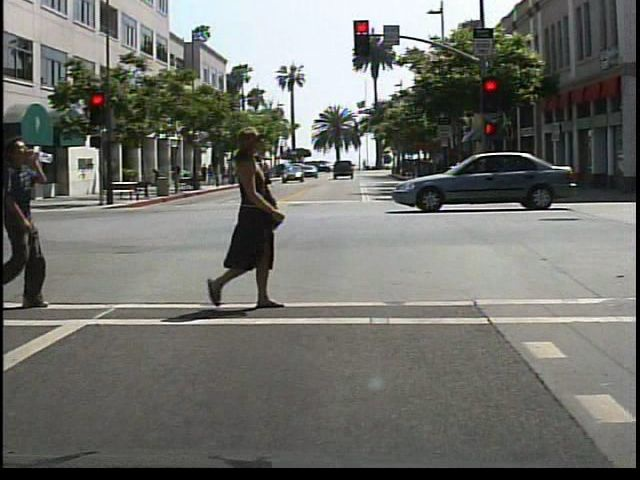person: (211, 131, 313, 318), (3, 135, 58, 313), (251, 155, 278, 209), (169, 159, 186, 195), (147, 166, 167, 191)
